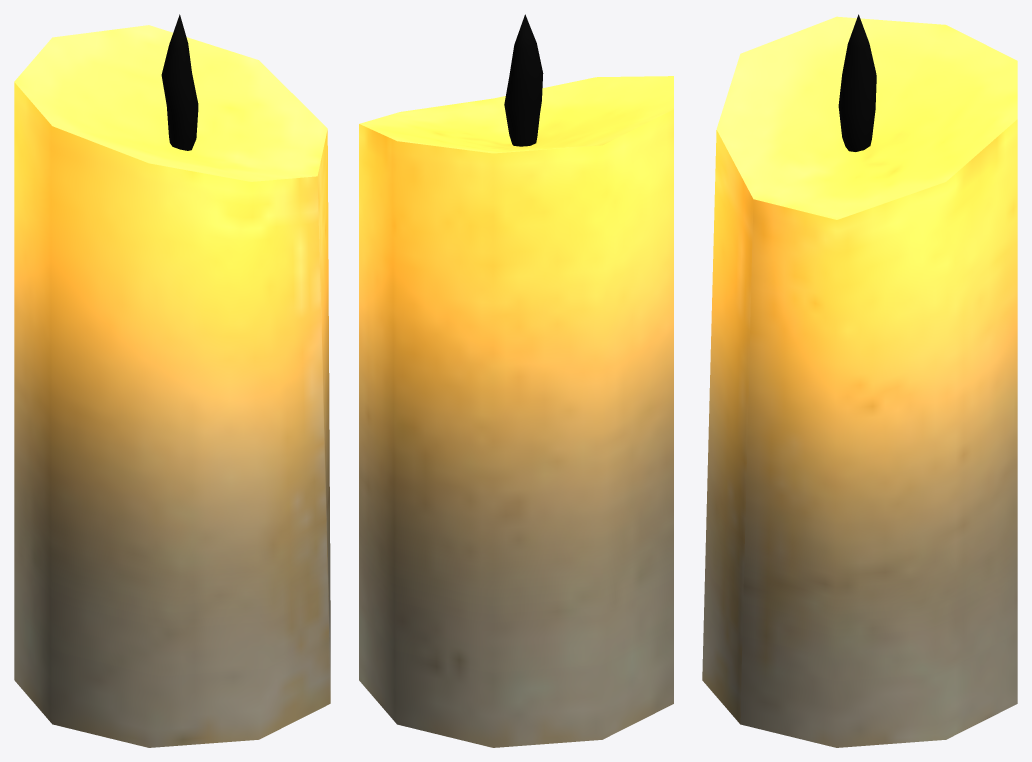
File: SM_Prop_Candle_White.fbx
The picture shows the model from 3 angles, left to right: view 1: azimuth 30°, elevation 25°; view 2: azimuth 150°, elevation 25°; view 3: azimuth 270°, elevation 25°; orthographic projection.
Visible parts, largest first — view 1: SM_Prop_Candle_White_LOD0; view 2: SM_Prop_Candle_White_LOD0; view 3: SM_Prop_Candle_White_LOD0.
Part boxes in pixels (<box>): SM_Prop_Candle_White_LOD0: <box>14,14,330,747</box>; SM_Prop_Candle_White_LOD0: <box>359,14,673,747</box>; SM_Prop_Candle_White_LOD0: <box>702,14,1017,747</box>.
Size of the model in its own units: 16.19 by 15.94 by 37.14.
Materials: 1 (1 with a texture image).
